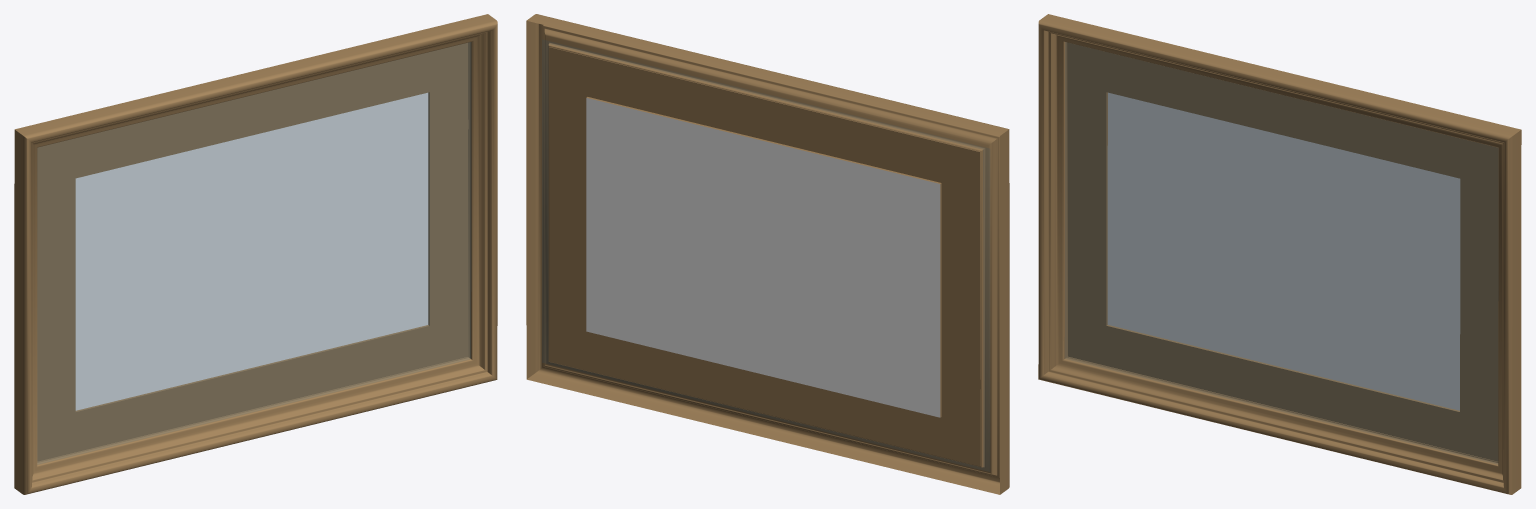
Rendered from Picture Frame.fbx.
3 renders of one model, left to right at view 1: azimuth 30°, elevation 25°; view 2: azimuth 150°, elevation 25°; view 3: azimuth 330°, elevation 25°, orthographic.
Parts seen in each view (by area): view 1: Glass, Frame, Image; view 2: Frame, Image, Glass; view 3: Glass, Frame, Image.
Boxes of the visible parts, bbox=[...] form: Glass: bbox=[38, 42, 470, 463]; Frame: bbox=[14, 14, 497, 494]; Image: bbox=[75, 92, 428, 410]; Frame: bbox=[526, 14, 1009, 494]; Image: bbox=[586, 98, 940, 417]; Glass: bbox=[542, 40, 989, 471]; Glass: bbox=[1065, 42, 1497, 463]; Frame: bbox=[1038, 14, 1521, 494]; Image: bbox=[1107, 92, 1460, 410].
Size of the model in its own units: 961 by 696 by 40.03.
